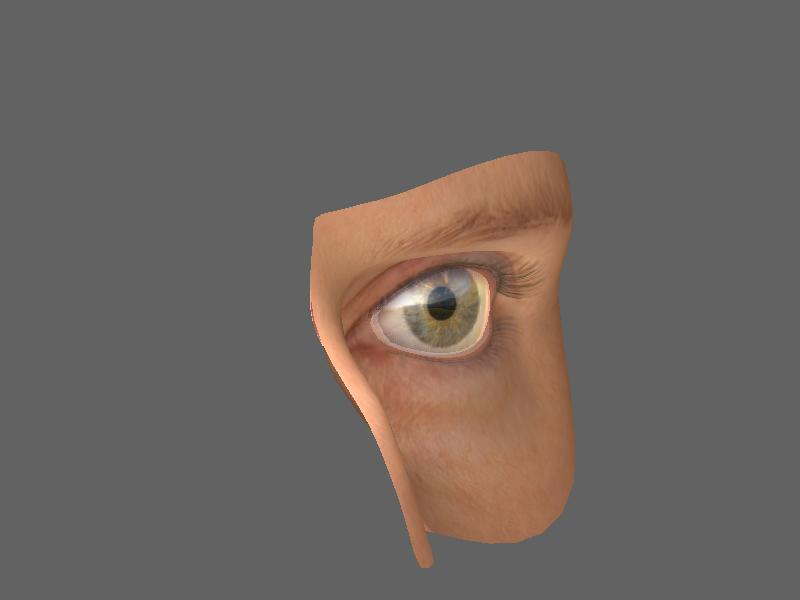iris: (403, 270, 480, 348)
